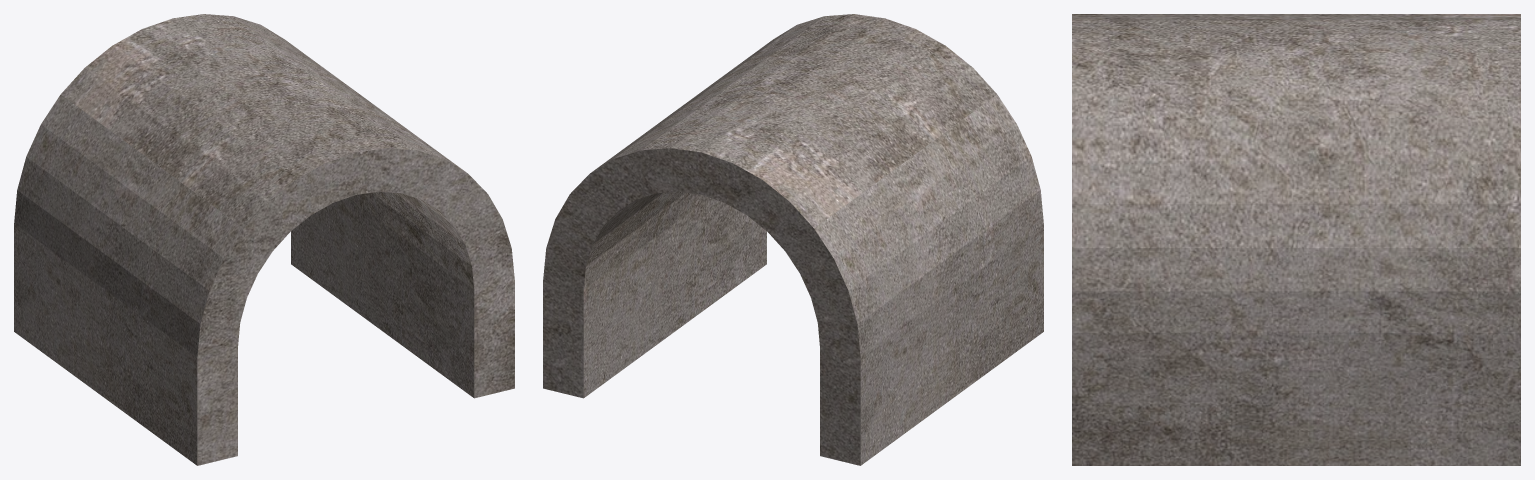
The model's file is Arch.fbx.
3 views of the same model, side by side, from view 1: azimuth 30°, elevation 25°; view 2: azimuth 150°, elevation 25°; view 3: azimuth 270°, elevation 25° (orthographic). The views are drawn at different scales.
Parts seen in each view (by area): view 1: Cylinder; view 2: Cylinder; view 3: Cylinder.
Boxes of the visible parts, x1=… form: Cylinder: x1=14, y1=14, x2=514, y2=465; Cylinder: x1=543, y1=14, x2=1043, y2=465; Cylinder: x1=1072, y1=14, x2=1520, y2=465.
Size of the model in its own units: 200 by 165 by 200.
